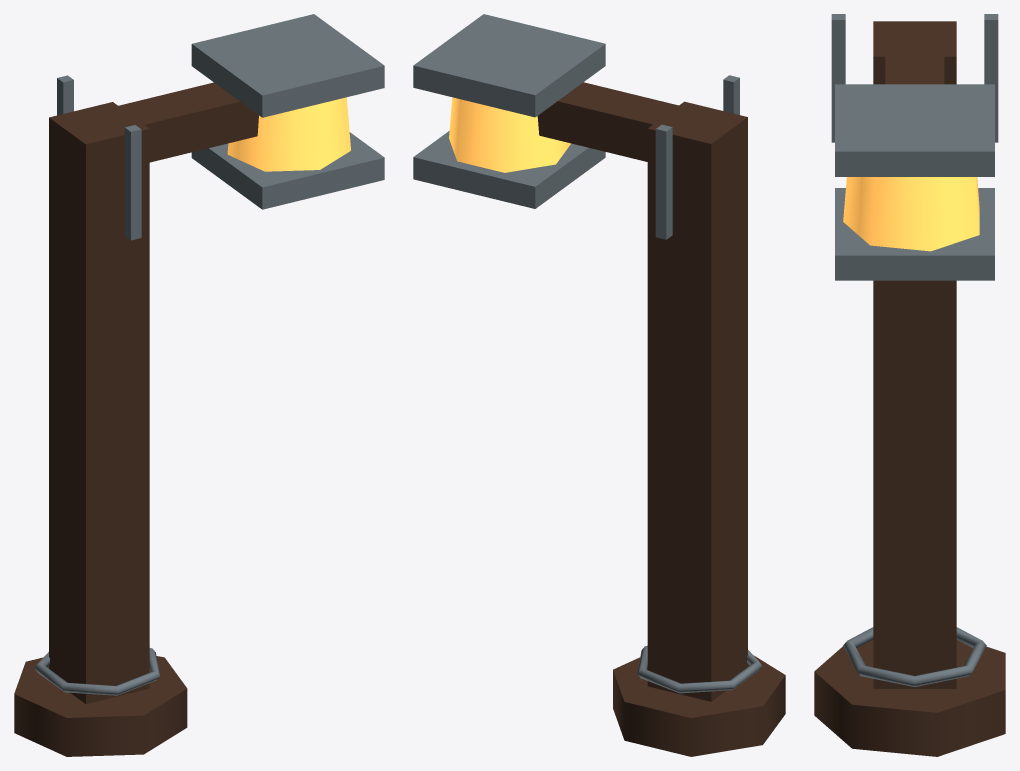
The model's file is branch-lantern-lod1.glb.
3 views of the same model, side by side, from view 1: azimuth 30°, elevation 25°; view 2: azimuth 150°, elevation 25°; view 3: azimuth 270°, elevation 25° (orthographic). The views are drawn at different scales.
Parts seen in each view (by area): view 1: MESH_branch_lantern_wood, MESH_branch_lantern_metal, MESH_branch_lantern_glass; view 2: MESH_branch_lantern_wood, MESH_branch_lantern_metal, MESH_branch_lantern_glass; view 3: MESH_branch_lantern_wood, MESH_branch_lantern_metal, MESH_branch_lantern_glass.
Boxes of the visible parts, x1,y1,x2,y2 form: MESH_branch_lantern_wood: [14, 82, 258, 756]; MESH_branch_lantern_metal: [34, 14, 384, 695]; MESH_branch_lantern_glass: [227, 97, 350, 171]; MESH_branch_lantern_wood: [537, 82, 785, 756]; MESH_branch_lantern_metal: [413, 14, 762, 693]; MESH_branch_lantern_glass: [449, 97, 570, 172]; MESH_branch_lantern_wood: [814, 21, 1005, 756]; MESH_branch_lantern_metal: [831, 14, 998, 686]; MESH_branch_lantern_glass: [843, 177, 979, 251].
Size of the model in its own units: 2.45 by 4.46 by 1.1.
